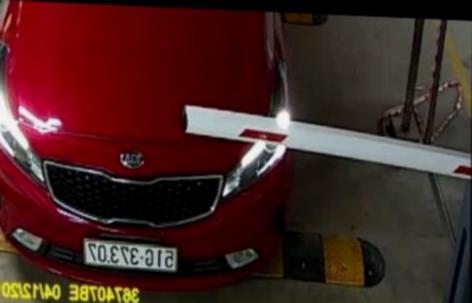License_Plate: (83, 238, 181, 274)
